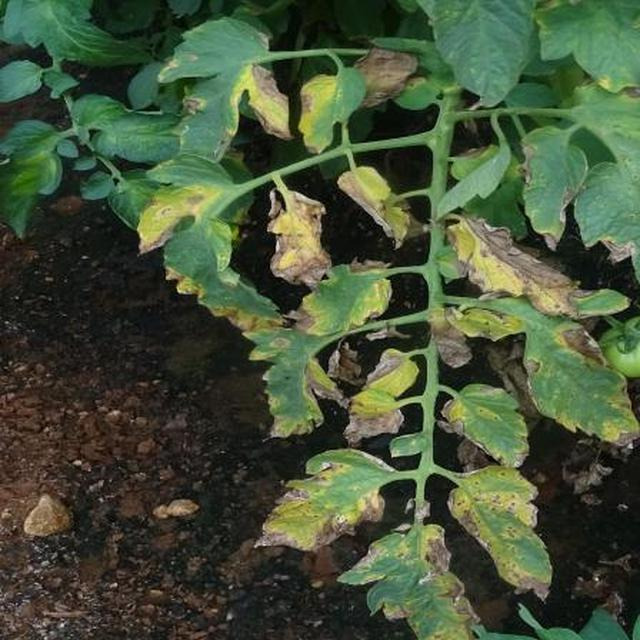Early Blight Leaf: (96, 114, 640, 640)
